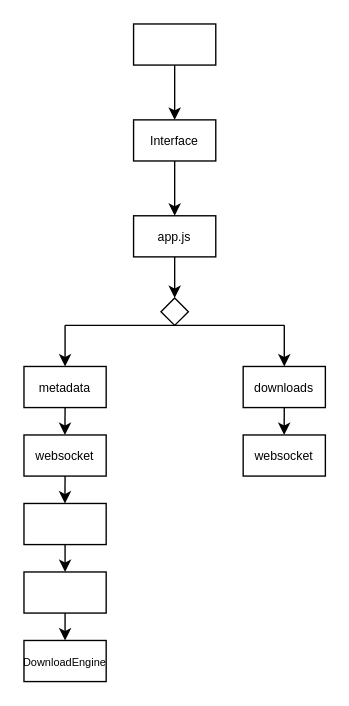
The diagram is 349 pixels wide and 706 high, and some of its shapes have lost their labels. Each missing label, with the box of its shape:
Actions: (23, 571, 106, 613)
SocketServer: (23, 502, 106, 545)
Usuário: (132, 23, 216, 65)
